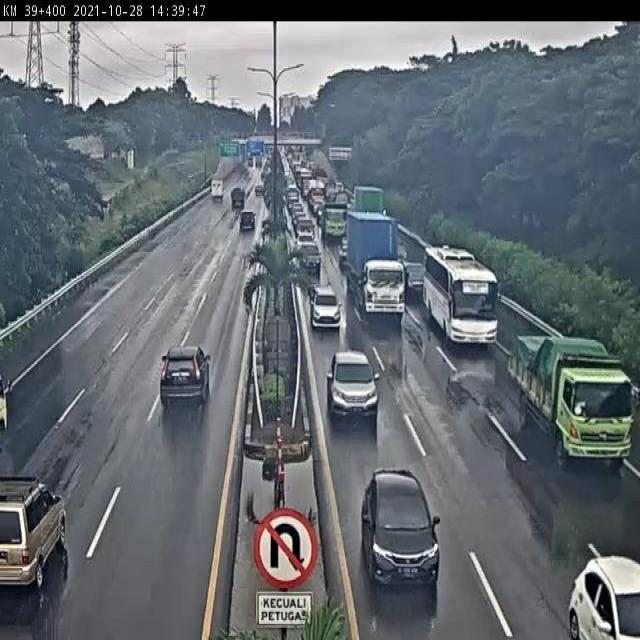car: (356, 463, 446, 603), (0, 459, 71, 608), (564, 536, 640, 640), (152, 338, 217, 414), (323, 344, 383, 424), (307, 283, 345, 336), (396, 253, 427, 299), (296, 240, 322, 276), (237, 211, 260, 240), (225, 187, 247, 216), (292, 224, 314, 248), (293, 210, 315, 230), (250, 187, 264, 203)
truck: (508, 327, 637, 467), (417, 236, 501, 353), (343, 205, 410, 323), (353, 177, 390, 220), (317, 201, 351, 244), (206, 176, 226, 208)
